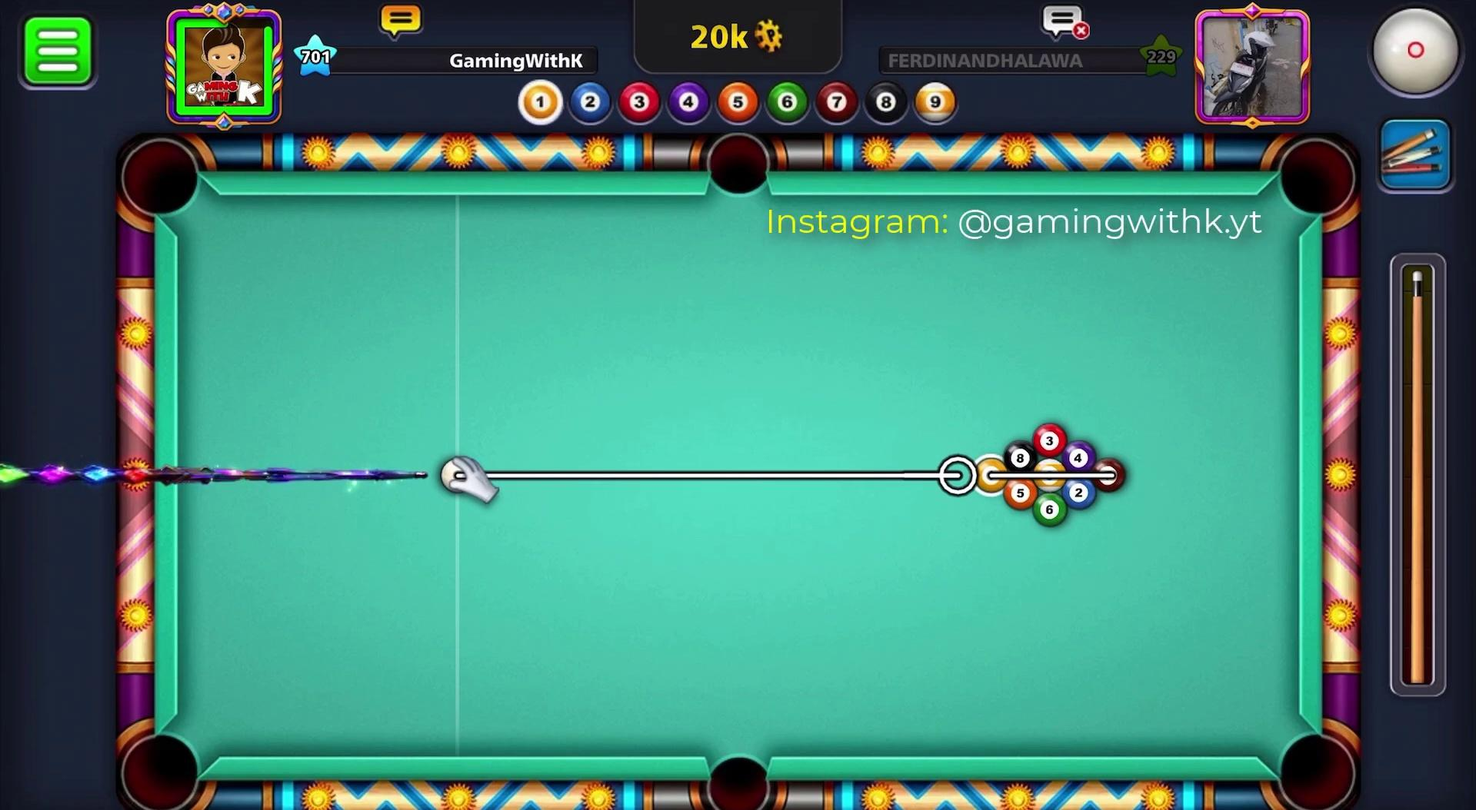Ball: (974, 452, 1009, 495), (1001, 476, 1037, 511), (1032, 420, 1067, 456), (1061, 476, 1096, 510), (1000, 440, 1035, 474), (1092, 456, 1125, 492), (1061, 440, 1095, 474), (1032, 456, 1065, 491), (1033, 491, 1066, 525)
Force: (1388, 251, 1452, 699)
Guideline: (455, 466, 1116, 485)
Hole: (108, 129, 212, 230), (1270, 130, 1363, 232), (1265, 717, 1364, 809), (111, 724, 208, 809), (686, 736, 785, 809), (701, 124, 778, 204)
Play_Area: (180, 195, 1296, 762)
Spin: (1341, 0, 1474, 114)
White: (430, 451, 484, 496)
